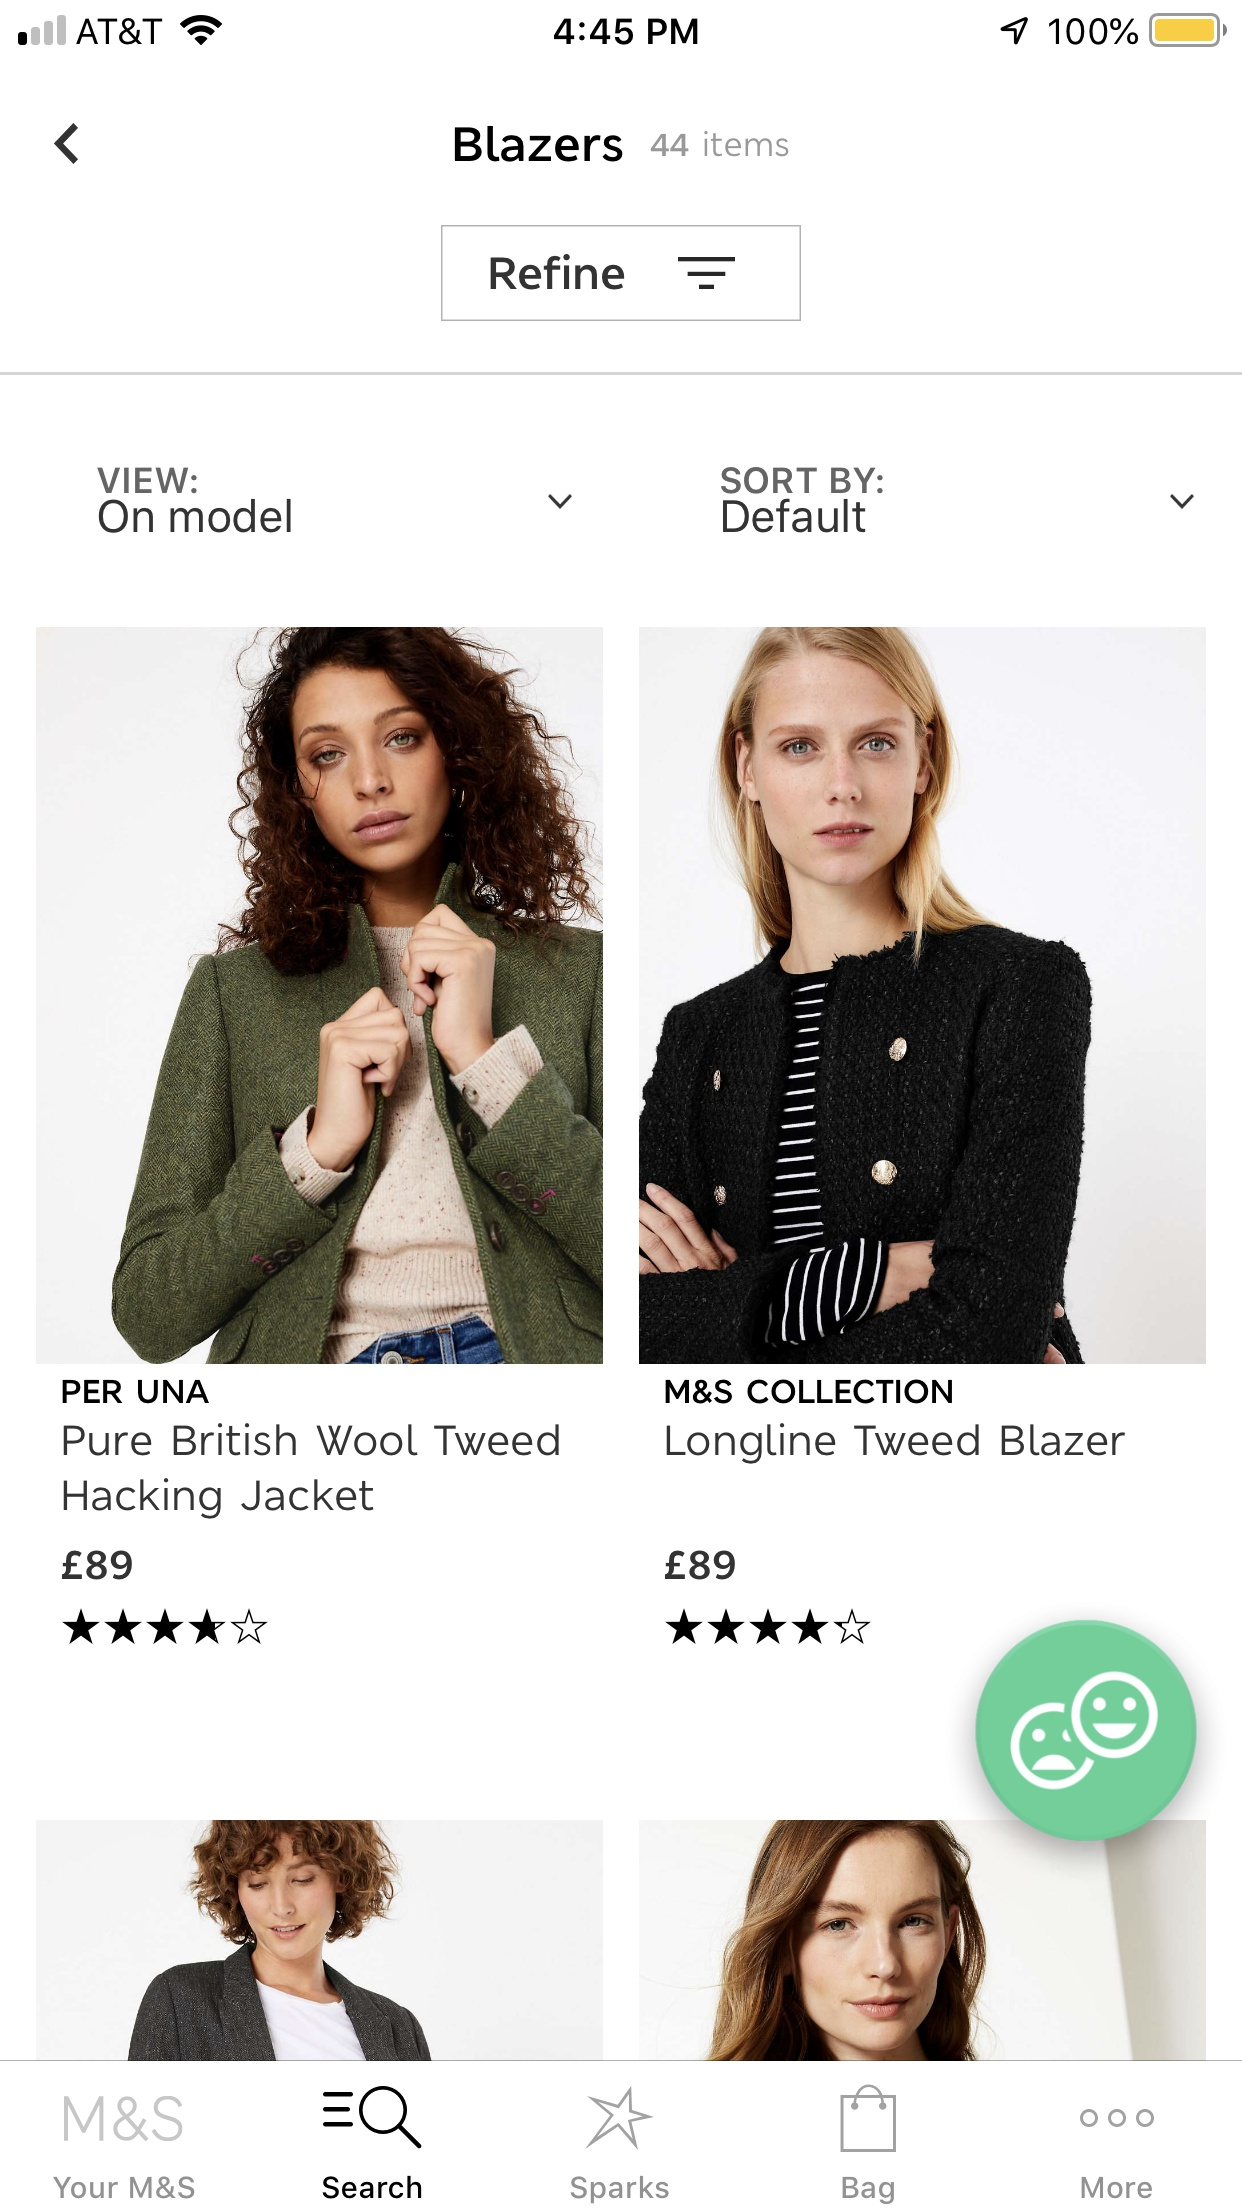Icon: (666, 1607, 870, 1645), (64, 1607, 268, 1645), (323, 2085, 423, 2149), (584, 2085, 654, 2150), (840, 2084, 898, 2153), (678, 256, 735, 291), (1080, 2108, 1156, 2128), (55, 123, 80, 165), (1168, 490, 1195, 510), (546, 490, 575, 508)
Image: (36, 626, 604, 1365), (638, 628, 1206, 1365), (36, 1820, 604, 2059), (638, 1820, 1206, 2059), (975, 1620, 1198, 1843)
Text: (666, 1422, 1127, 1465), (64, 1422, 560, 1457), (64, 1477, 375, 1520), (666, 1378, 952, 1404), (99, 499, 293, 535), (455, 126, 623, 162), (64, 2094, 183, 2141), (719, 499, 867, 534), (490, 253, 625, 291), (717, 466, 883, 496), (62, 1378, 211, 1404), (651, 130, 789, 158), (53, 2175, 196, 2199), (572, 2175, 670, 2203), (97, 467, 199, 494), (323, 2175, 423, 2199), (664, 1548, 735, 1582), (62, 1548, 133, 1580), (1081, 2176, 1153, 2199), (842, 2176, 895, 2205)
TextButton: (441, 224, 802, 321)
UpperTaskBar: (2, 2, 1242, 49)
